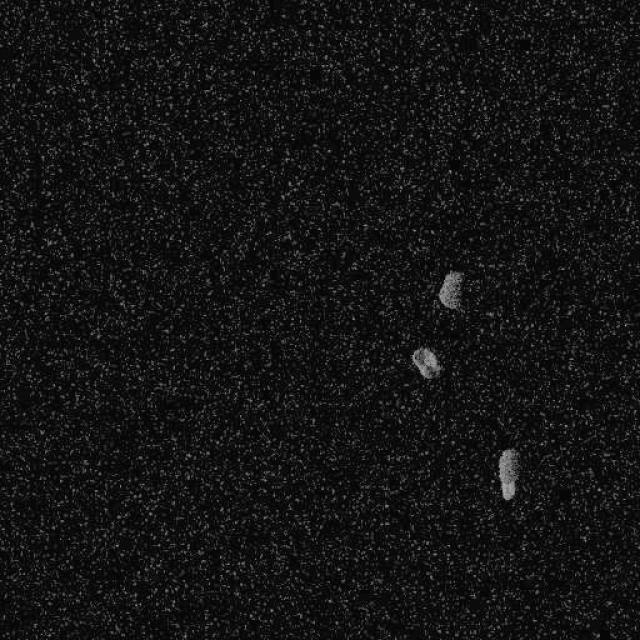D2: (496, 448, 520, 502), (436, 269, 464, 310), (410, 345, 442, 380)
